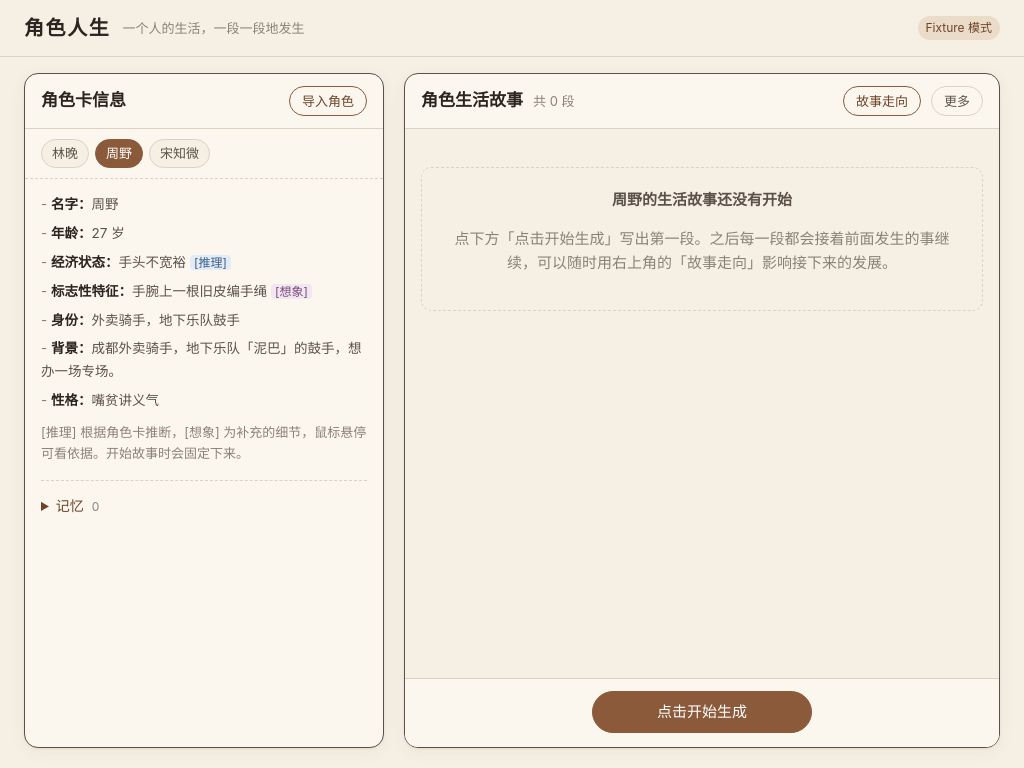
Test case: Import dialog › imports the text example and opens the new character
Click the button "导入角色".
click(328, 101)  # box [289,86,367,116]
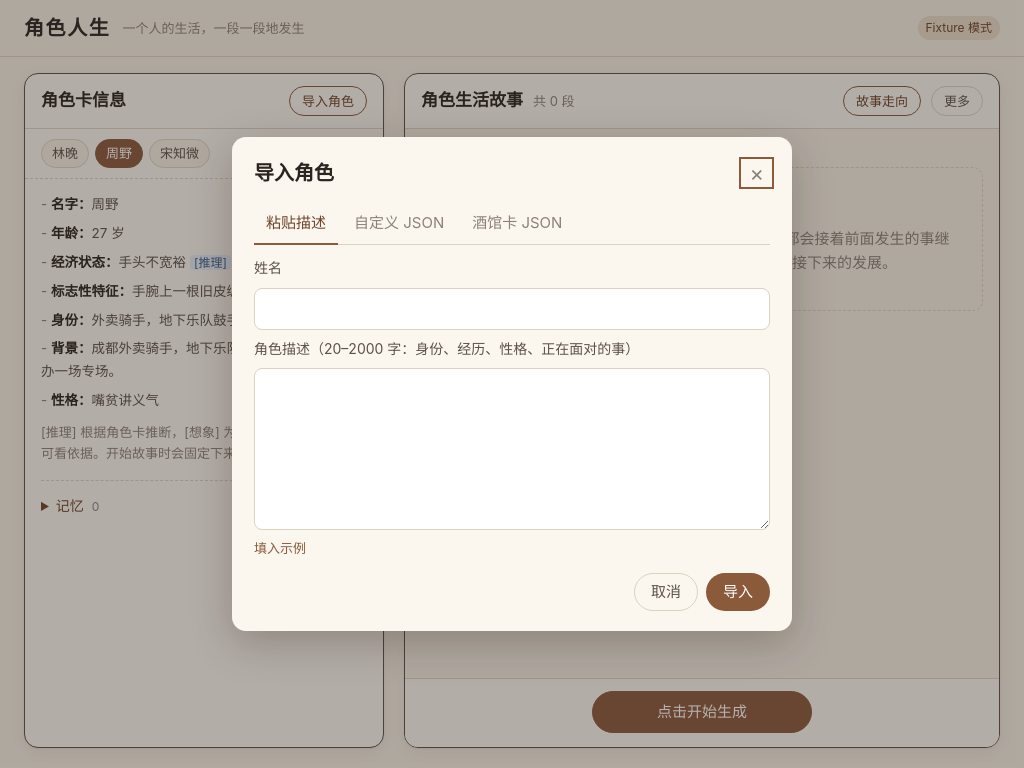
Click the button "填入示例".
click(280, 548)  # box [254,538,306,559]
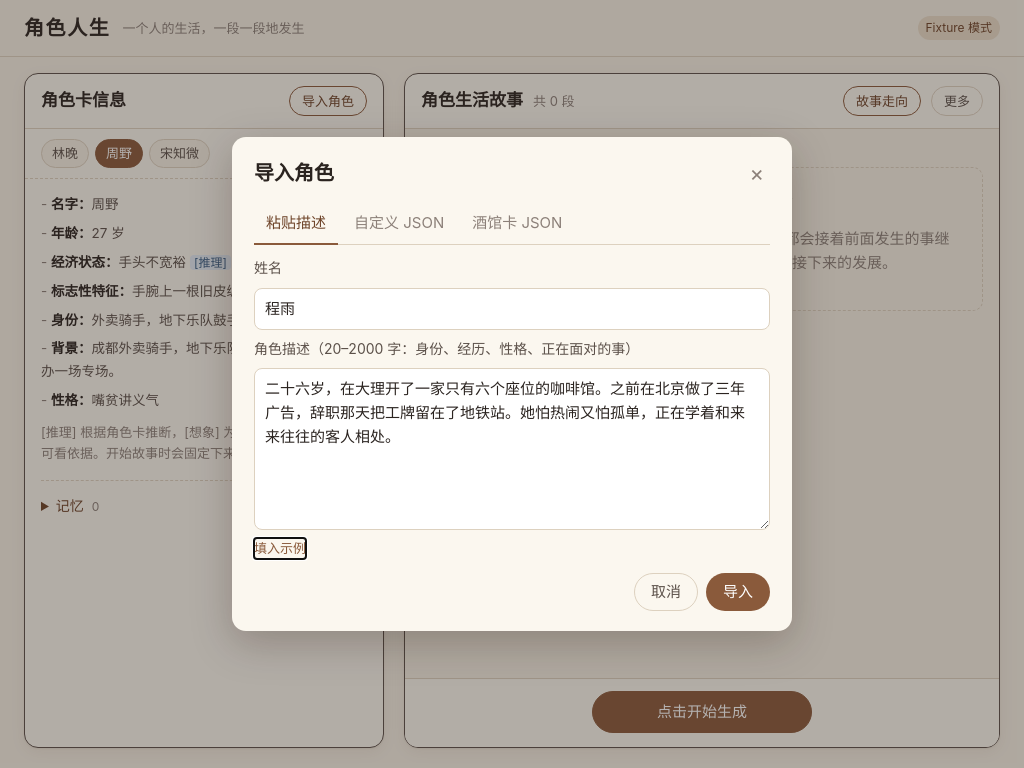
Click the button "导入".
click(738, 592)  # box [706,573,770,611]
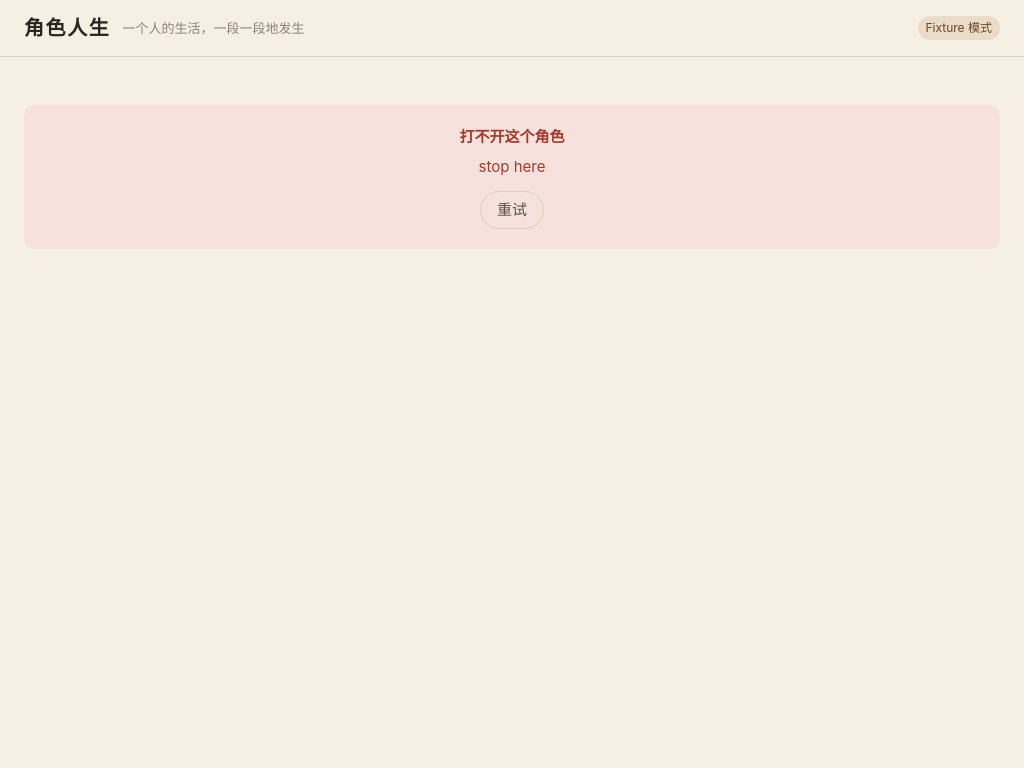
Expected: the dialog is gone
Expected: the text "打不开这个角色" is shown, [460,127,564,146]
